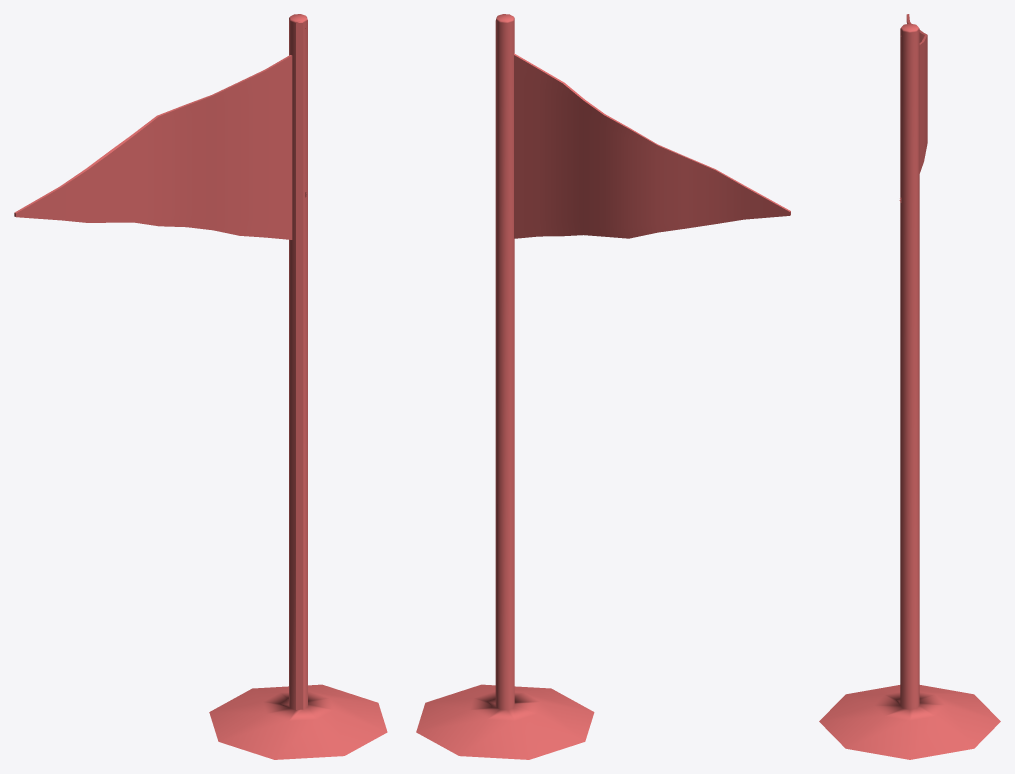
The model's file is flag.fbx.
3 renders of one model, left to right at view 1: azimuth 30°, elevation 25°; view 2: azimuth 150°, elevation 25°; view 3: azimuth 270°, elevation 25°, orthographic.
Parts seen in each view (by area): view 1: PirateFlag:pCube1, flag; view 2: PirateFlag:pCube1, flag; view 3: flag, PirateFlag:pCube1.
Part boxes in pixels (x1,y1,x2,y2): PirateFlag:pCube1: [14, 55, 292, 239]; flag: [209, 14, 387, 759]; PirateFlag:pCube1: [514, 53, 790, 238]; flag: [416, 14, 594, 759]; flag: [819, 23, 1000, 759]; PirateFlag:pCube1: [906, 14, 927, 173].
Bounding box in the file's own units: 17.82 × 32.93 × 7.82.
